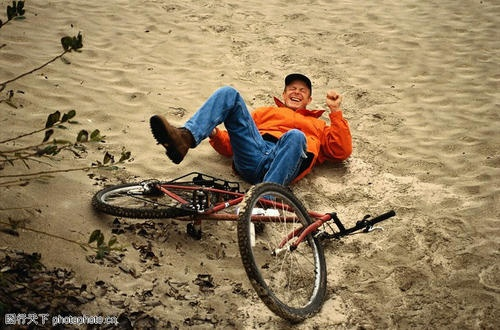falling: (142, 66, 369, 225)
